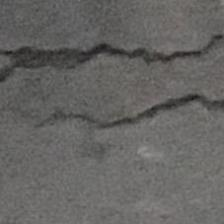Crack: (1, 26, 224, 133)
